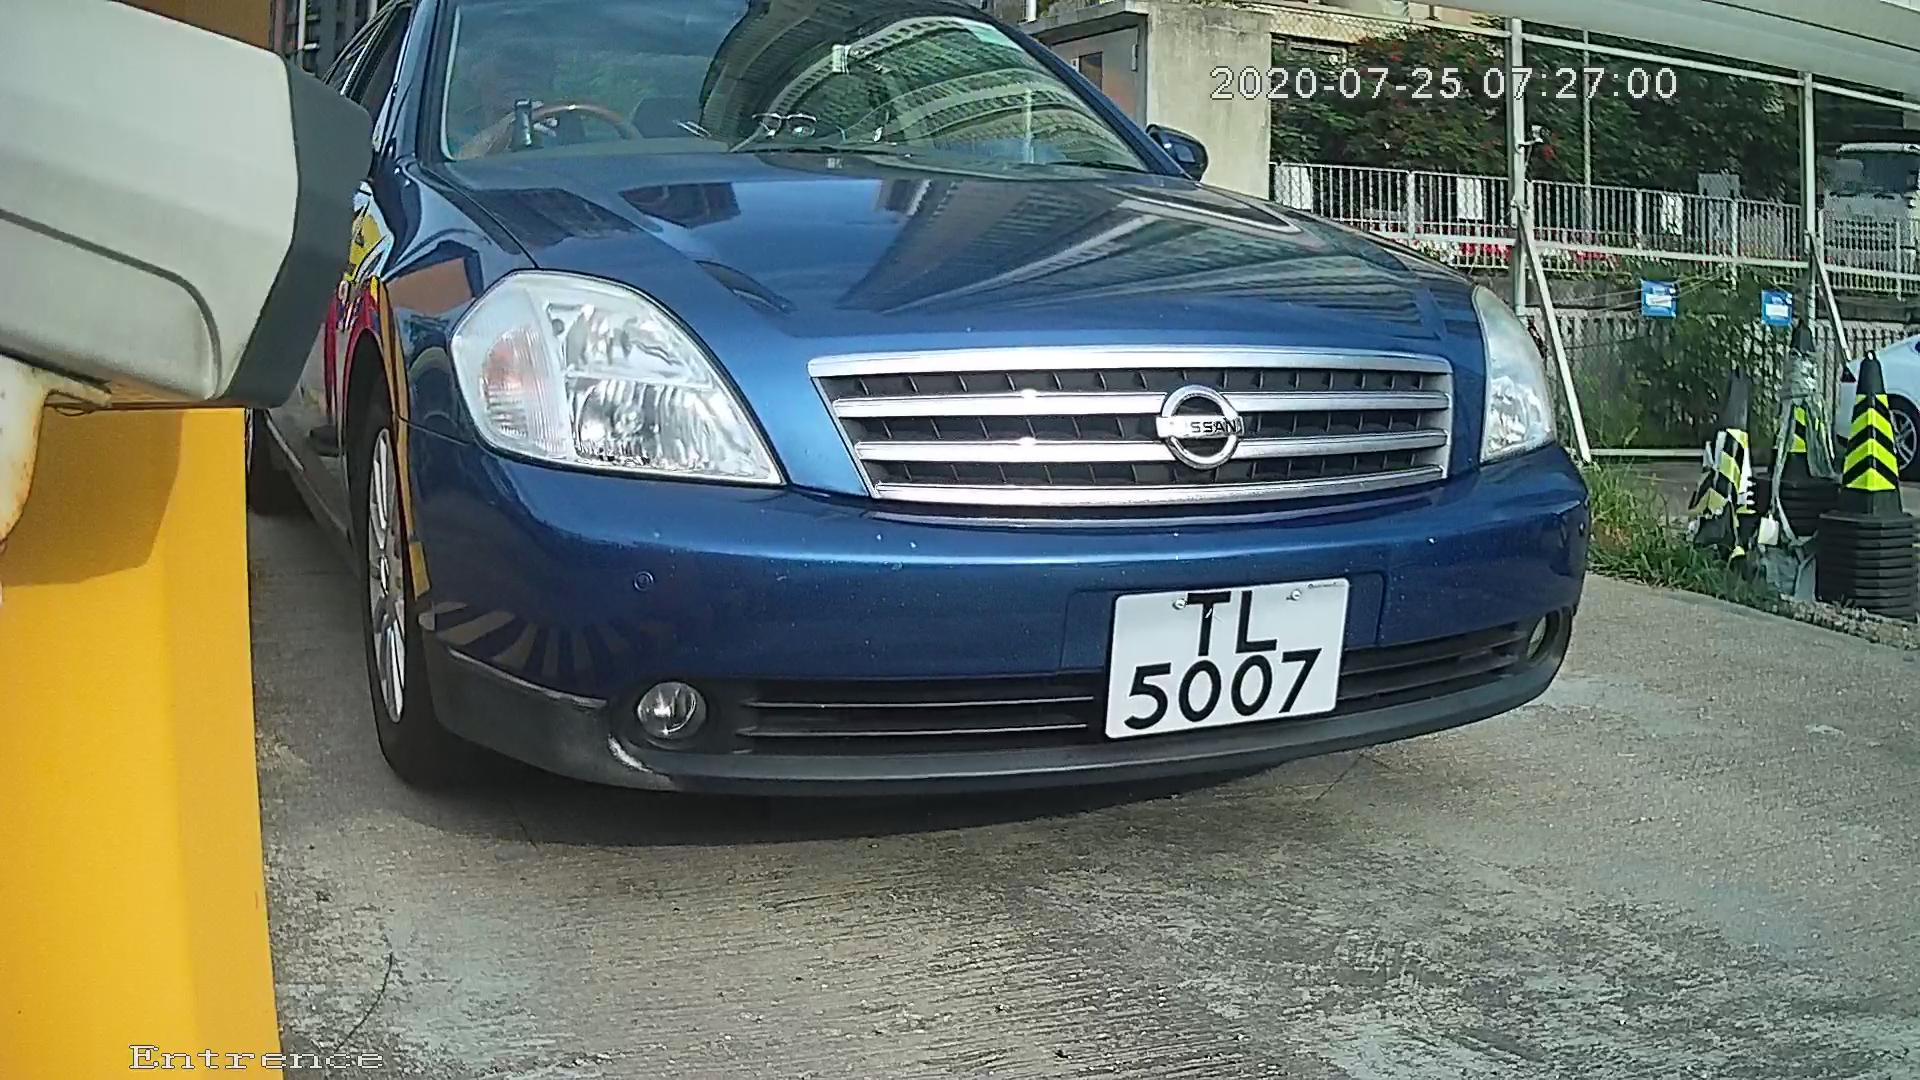License Plate: (1081, 569, 1363, 753)
